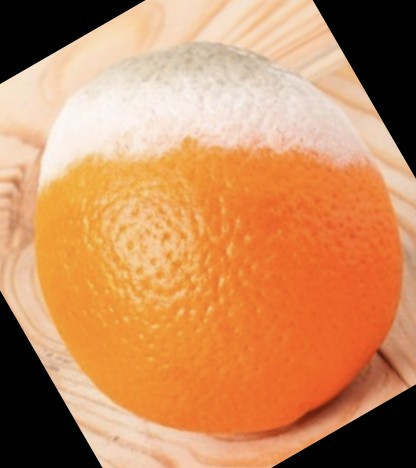rotten_orange: (36, 45, 400, 430)
